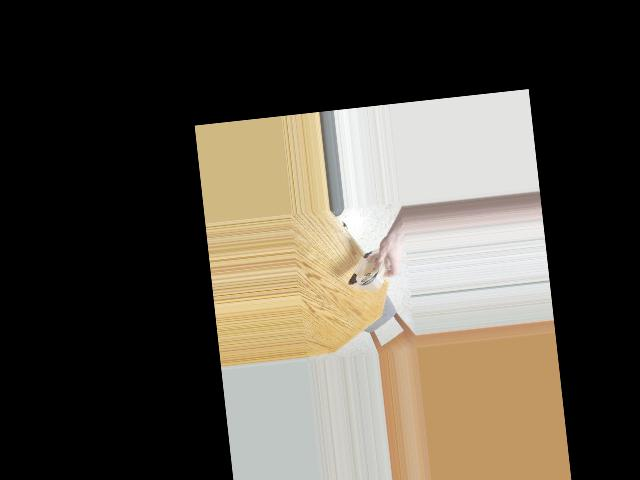cheese: (345, 235, 390, 297)
